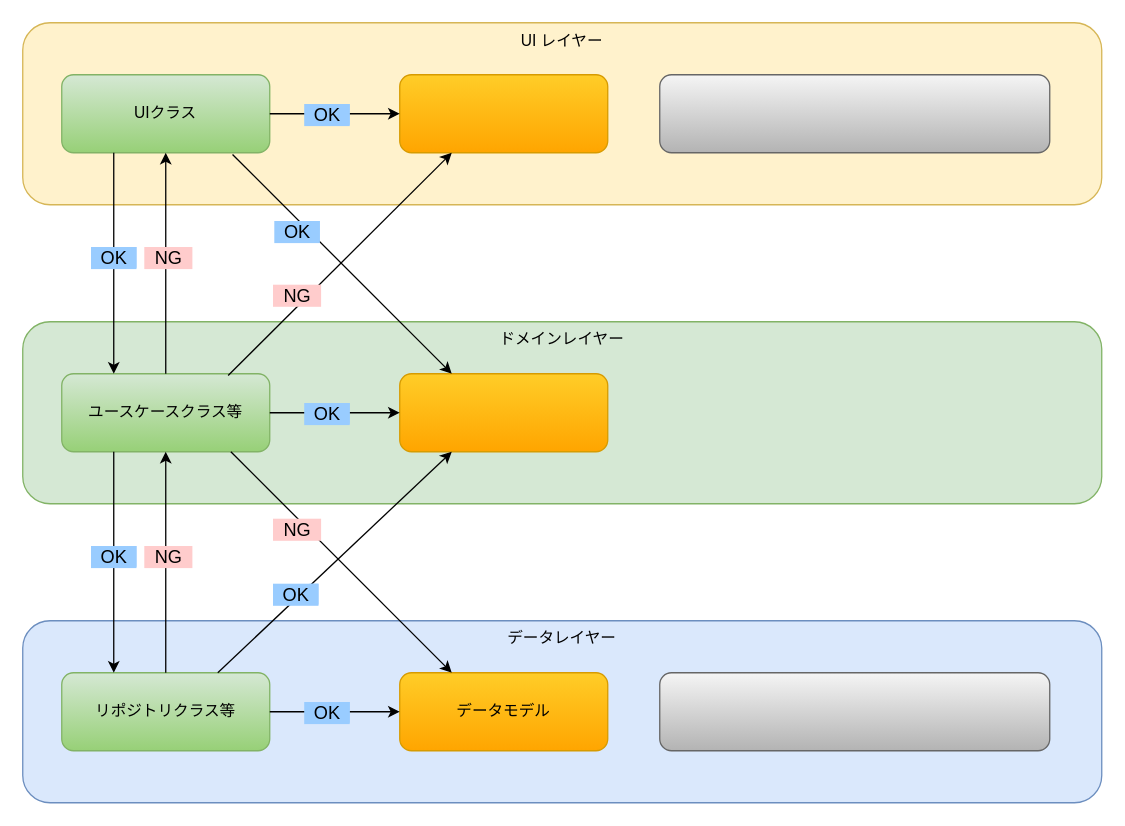
Some shapes in this 1125 by 826 pixel diagram are drawn without their labels. The shapes that lost their labels are listed below. From the top down, each one's centre as x and y in pixels, then its label:
At pixel 503 113: "UI モデル".
At pixel 854 113: "UI モデル と ドメインモデル のマッパー （データレイヤー内に配置する）".
At pixel 503 412: "ドメインモデル".
At pixel 854 711: "データモデル と ドメインモデル のマッパー （データレイヤー内に配置するべき）".
